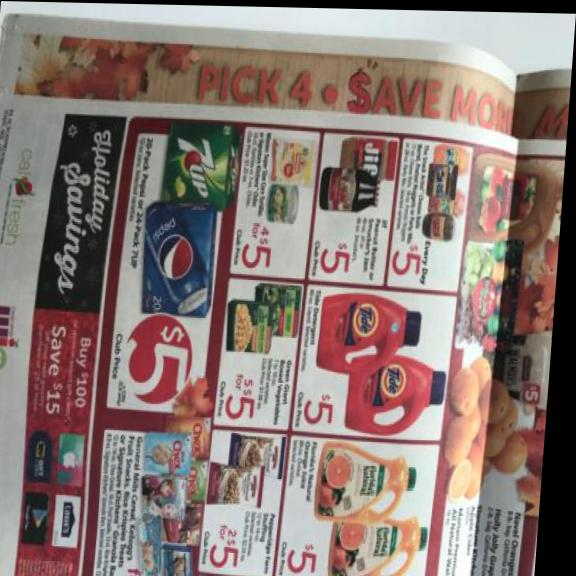Kertas: (0, 14, 574, 576)
